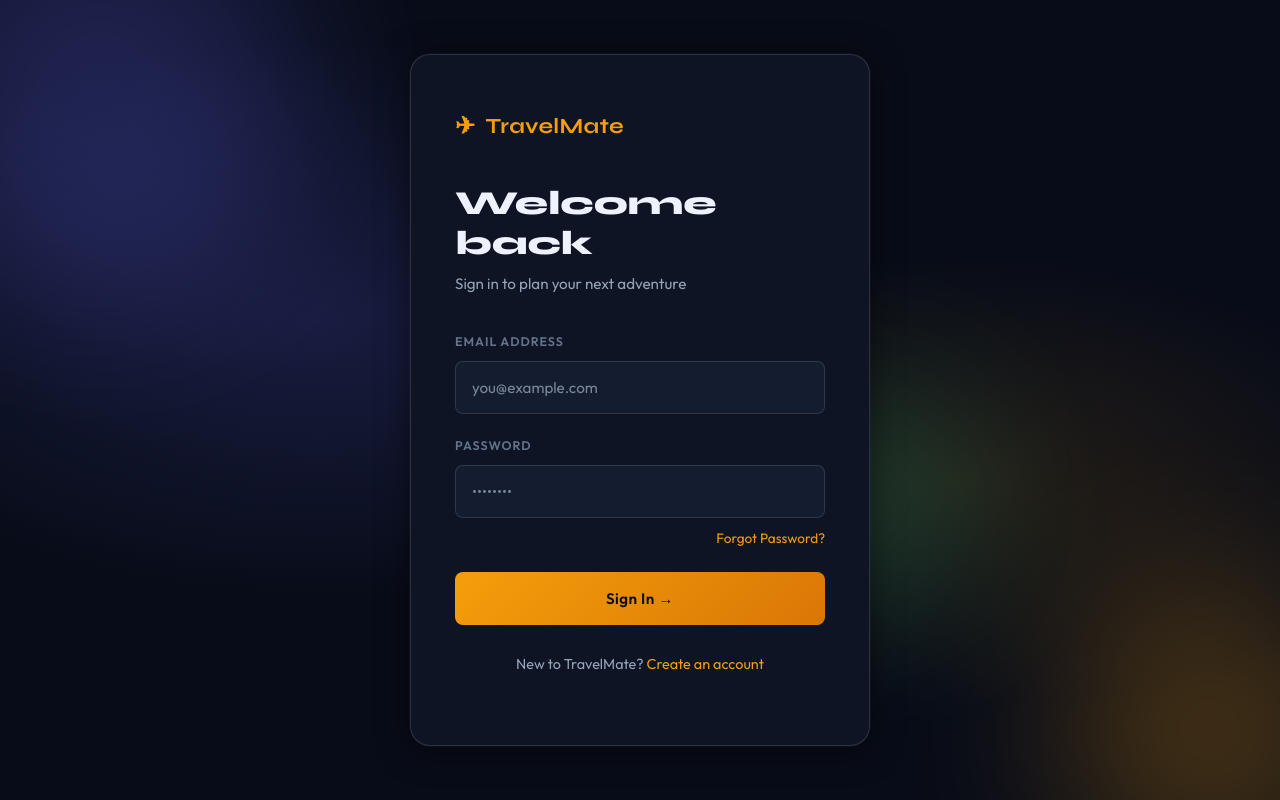
Scenario: Login Component › shows error if fields are empty
The width and height of the screenshot is (1280, 800).
Click the button "Sign In →": (640,599) left=455, top=572, right=825, bottom=625
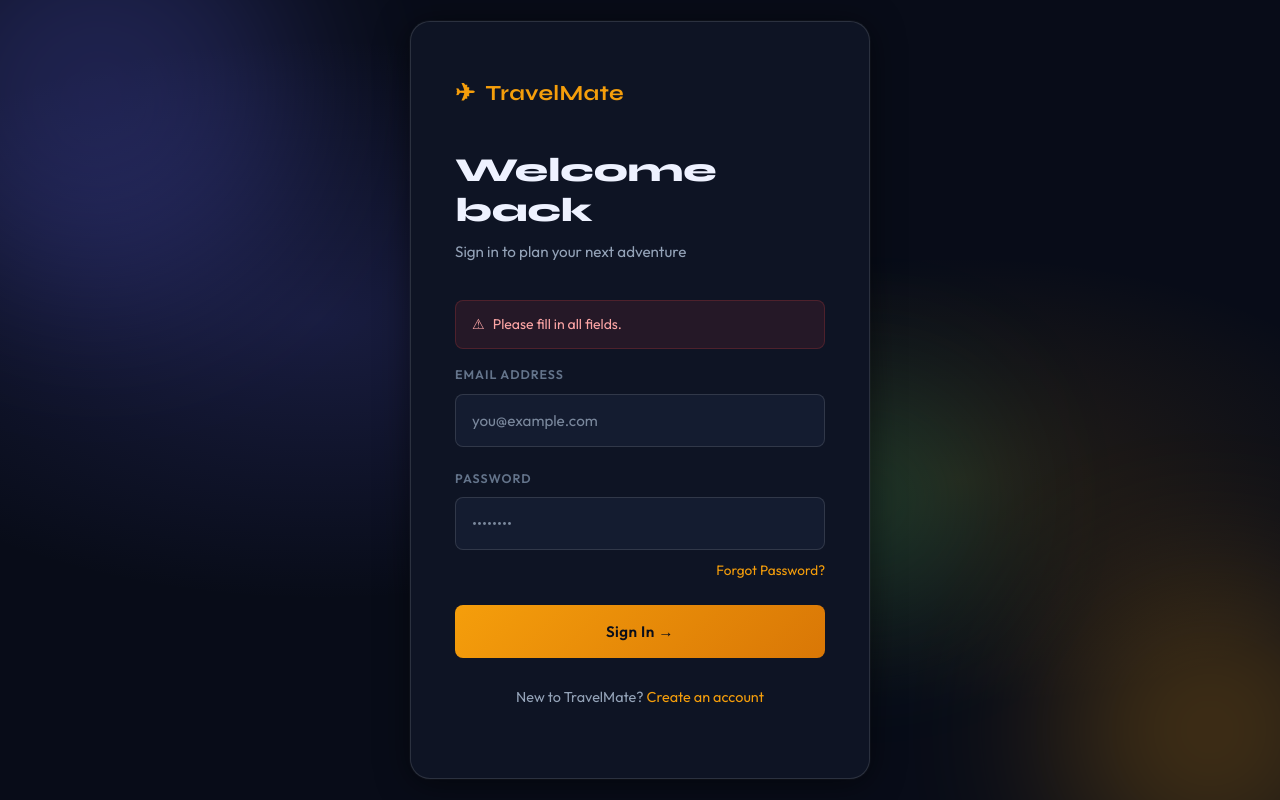
Expected: the text "Please fill in all fields." is shown, left=493, top=315, right=622, bottom=333
